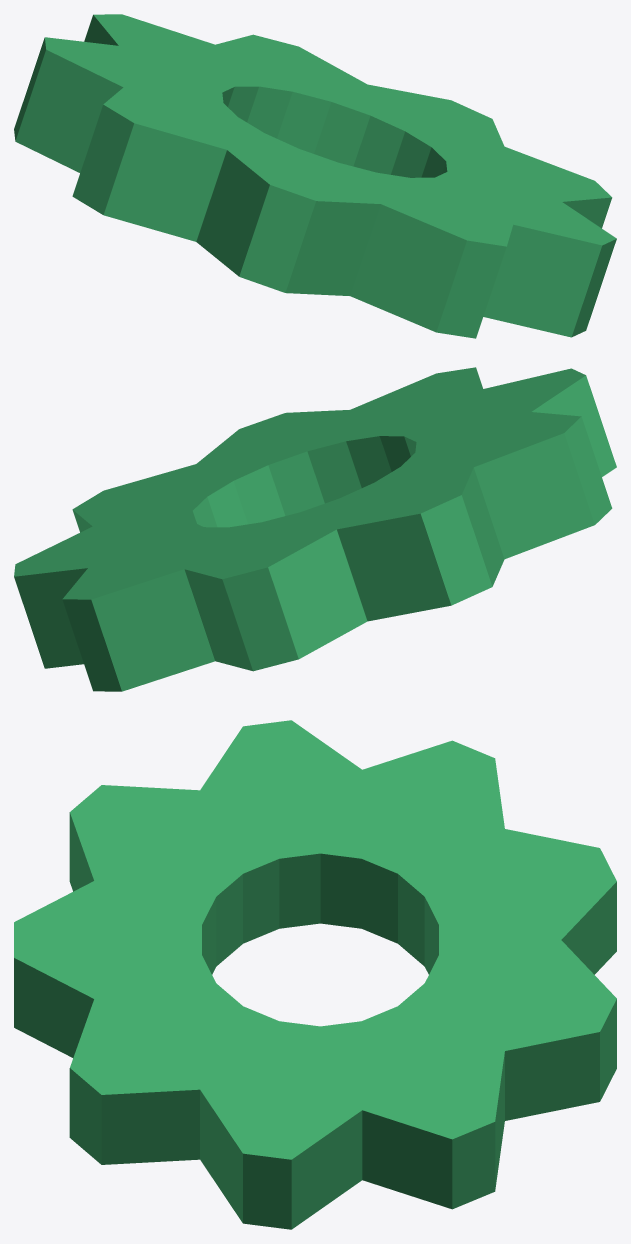
The model's file is Geargeo4.fbx.
3 views of the same model, one above another, from view 1: azimuth 30°, elevation 25°; view 2: azimuth 150°, elevation 25°; view 3: azimuth 270°, elevation 25° (orthographic).
Parts seen in each view (by area): view 1: Gear4; view 2: Gear4; view 3: Gear4.
Part boxes in pixels (<box>): Gear4: <box>14,14,616,338</box>; Gear4: <box>14,367,616,691</box>; Gear4: <box>14,720,616,1229</box>.
Size of the model in its own units: 69.51 by 35.7 by 68.95.
